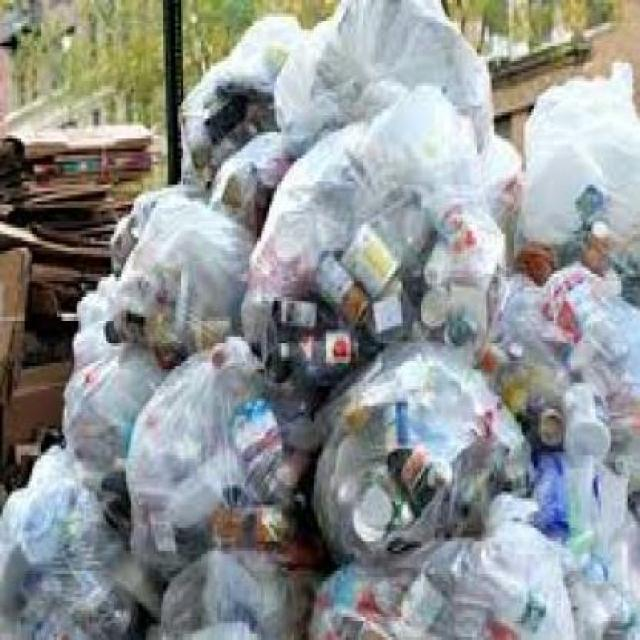garbage: (0, 82, 637, 636), (212, 14, 624, 83)
